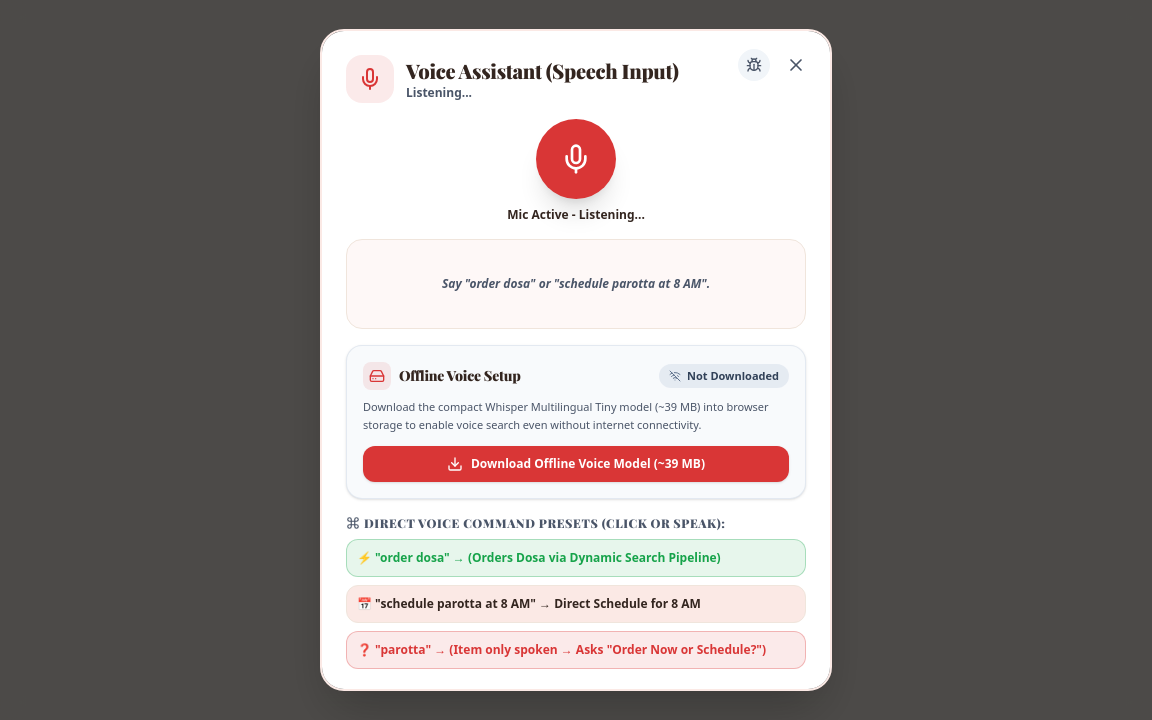
Test: VoiceCommandModal - Offline Voice Setup Section › 3. Cancelling the consent prompt dismisses it without downloading
Click the button "Download Offline Voice Model (~39 MB)": (576, 464) [363,446,789,482]
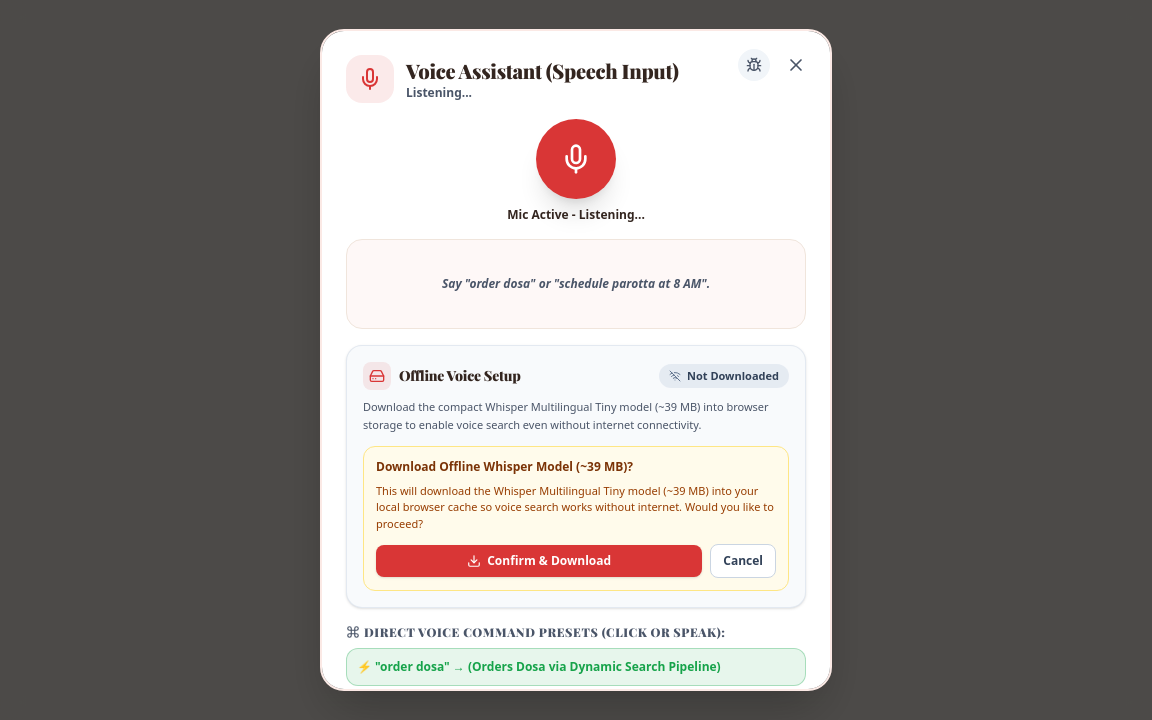
Expected: the button "Cancel" is shown
Click the button "Cancel": (743, 561) [710,544,776,578]
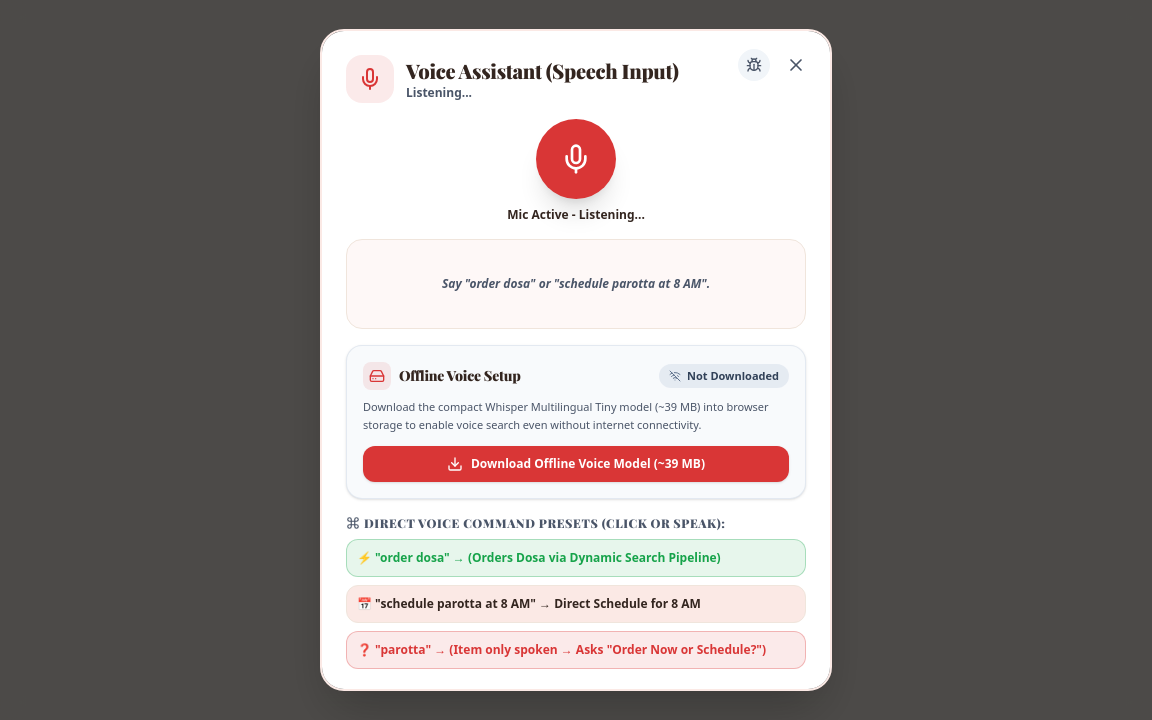
Expected: the text "Download Offline Whisper Model (~39 MB)?" is gone
